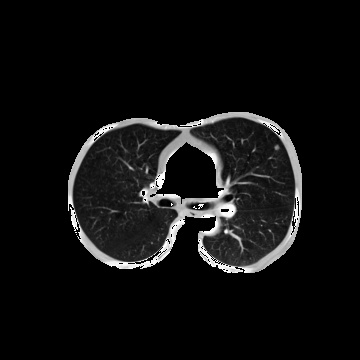PN: (274, 144, 280, 150)
